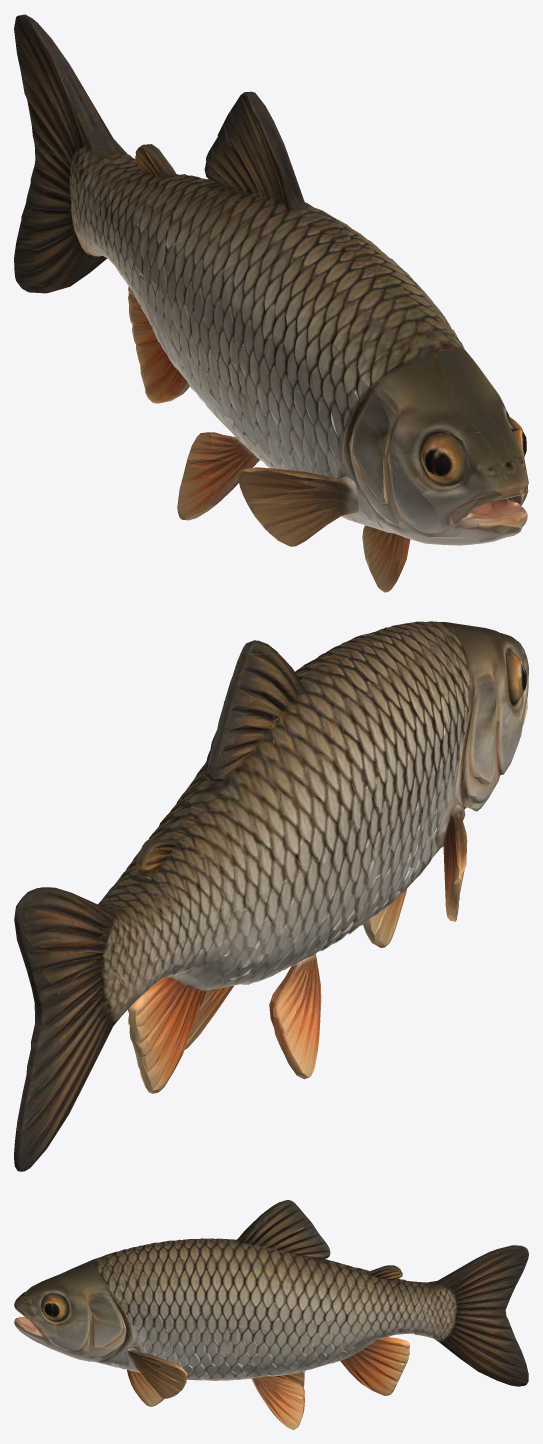
File: tatlisu.glb
3 renders of one model, top to bottom at view 1: azimuth 30°, elevation 25°; view 2: azimuth 150°, elevation 25°; view 3: azimuth 270°, elevation 25°, orthographic. The views are drawn at different scales.
Parts seen in each view (by area): view 1: output_unwrapped; view 2: output_unwrapped; view 3: output_unwrapped.
Boxes of the visible parts, bbox=[...] form: output_unwrapped: bbox=[14, 14, 528, 592]; output_unwrapped: bbox=[14, 621, 528, 1171]; output_unwrapped: bbox=[14, 1200, 528, 1429].
Bounding box in the file's own units: 0.4889 × 0.8721 × 1.9.
Materials: 1 (1 with a texture image).
